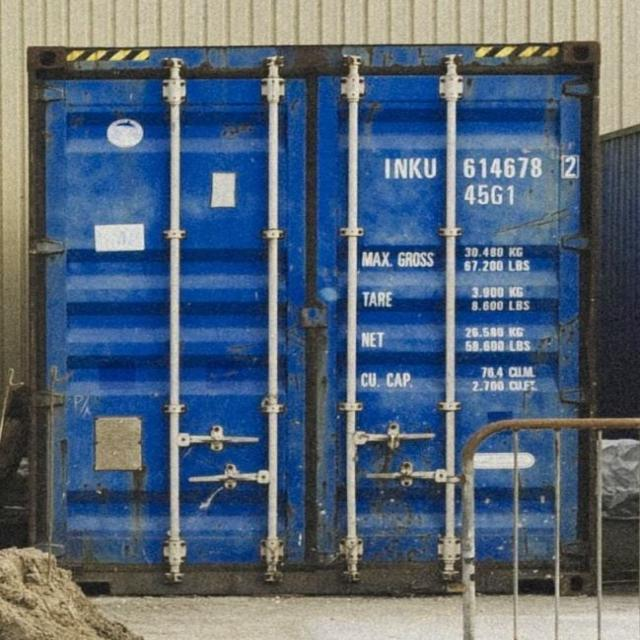ISO: (466, 186, 512, 206)
container_number: (382, 154, 572, 180)
